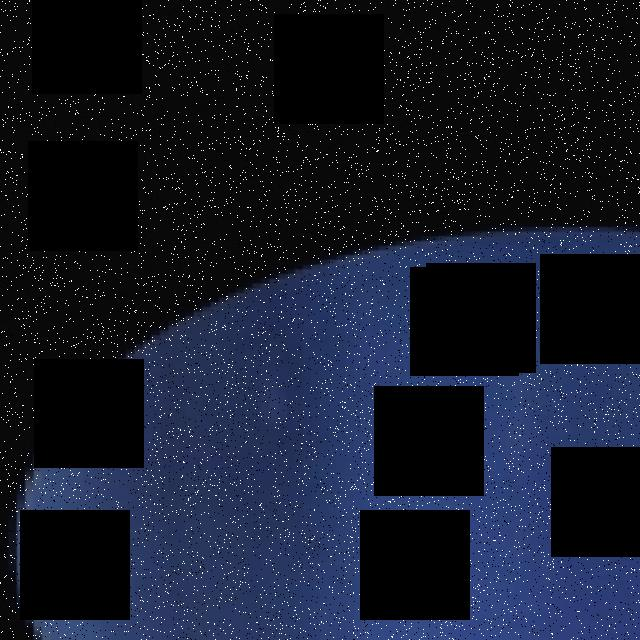Neptune: (17, 231, 640, 640)
